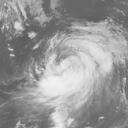cyclone: (31, 20, 124, 107)
